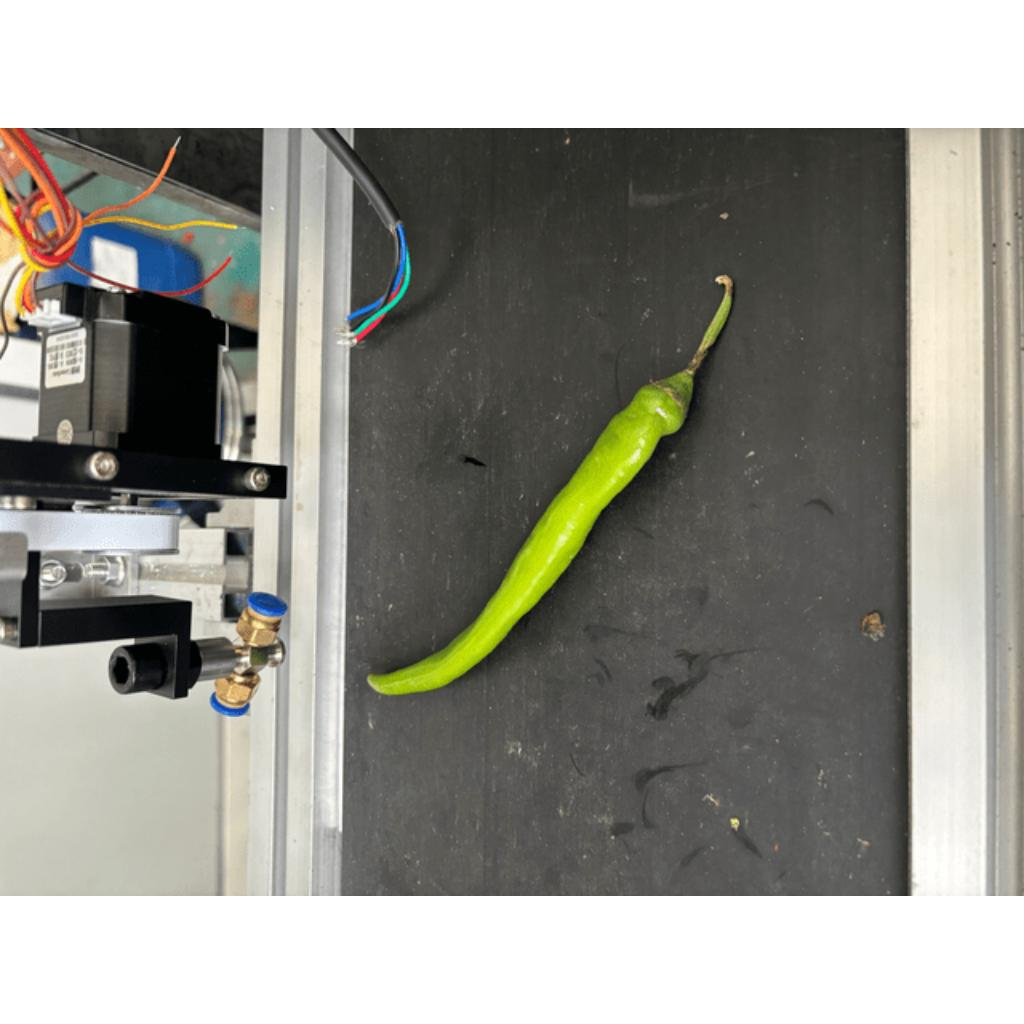chili: (360, 373, 698, 699)
